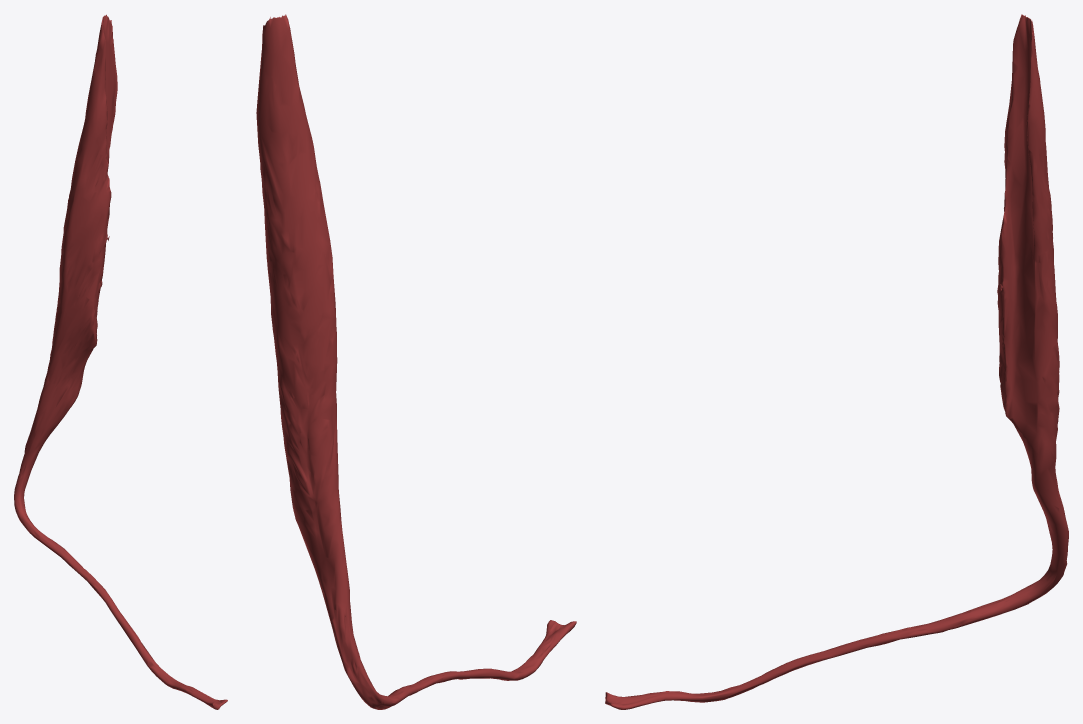
The model's file is flexor-hallucis-longus-l.glb.
3 renders of one model, left to right at view 1: azimuth 30°, elevation 25°; view 2: azimuth 150°, elevation 25°; view 3: azimuth 270°, elevation 25°, orthographic. The views are drawn at different scales.
Visible parts, largest first — view 1: Flexor hallucis longus.l; view 2: Flexor hallucis longus.l; view 3: Flexor hallucis longus.l.
Part boxes in pixels (x1,y1,x2,y2): Flexor hallucis longus.l: (14, 14, 227, 709); Flexor hallucis longus.l: (256, 14, 576, 709); Flexor hallucis longus.l: (605, 14, 1068, 709).
Size of the model in its own units: 0.0566 by 0.3177 by 0.1848.
